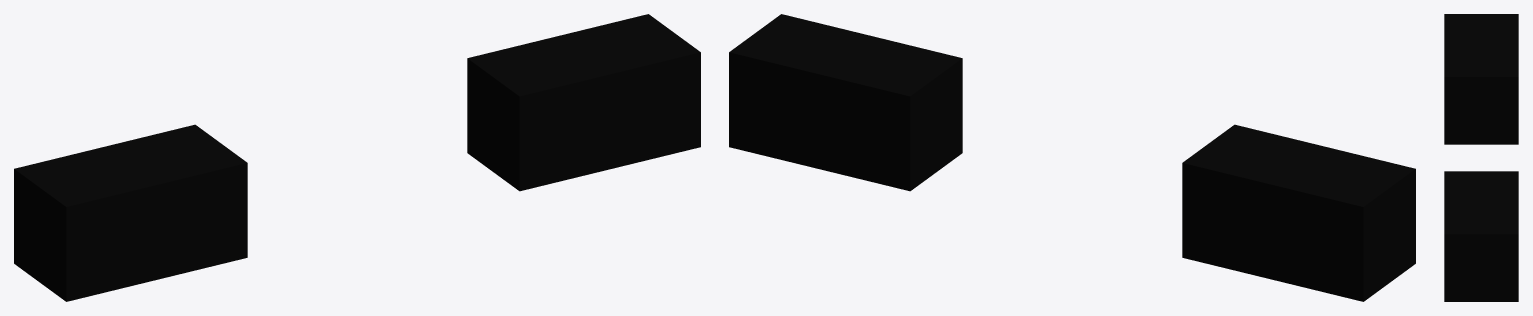
File: eyesClosed.vox.obj
The picture shows the model from 3 angles, left to right: view 1: azimuth 30°, elevation 25°; view 2: azimuth 150°, elevation 25°; view 3: azimuth 270°, elevation 25°; orthographic projection. The views are drawn at different scales.
Parts seen in each view (by area): view 1: ElCrocodriloLookL; view 2: ElCrocodriloLookL; view 3: ElCrocodriloLookL.
Part boxes in pixels (bbox=[...]): ElCrocodriloLookL: bbox=[14, 14, 700, 301]; ElCrocodriloLookL: bbox=[729, 14, 1415, 301]; ElCrocodriloLookL: bbox=[1444, 14, 1518, 301].
Size of the model in its own units: 0.7 by 0.1 by 0.1.
Materials: 1 (1 with a texture image).
